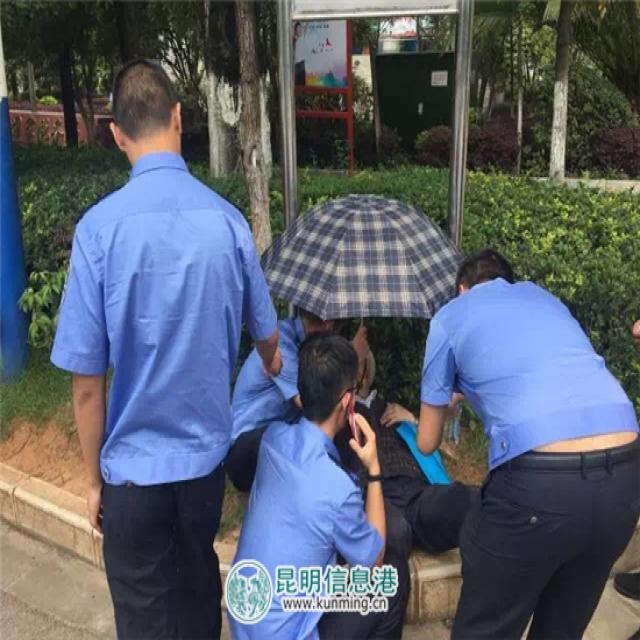fall: (337, 379, 475, 621)
